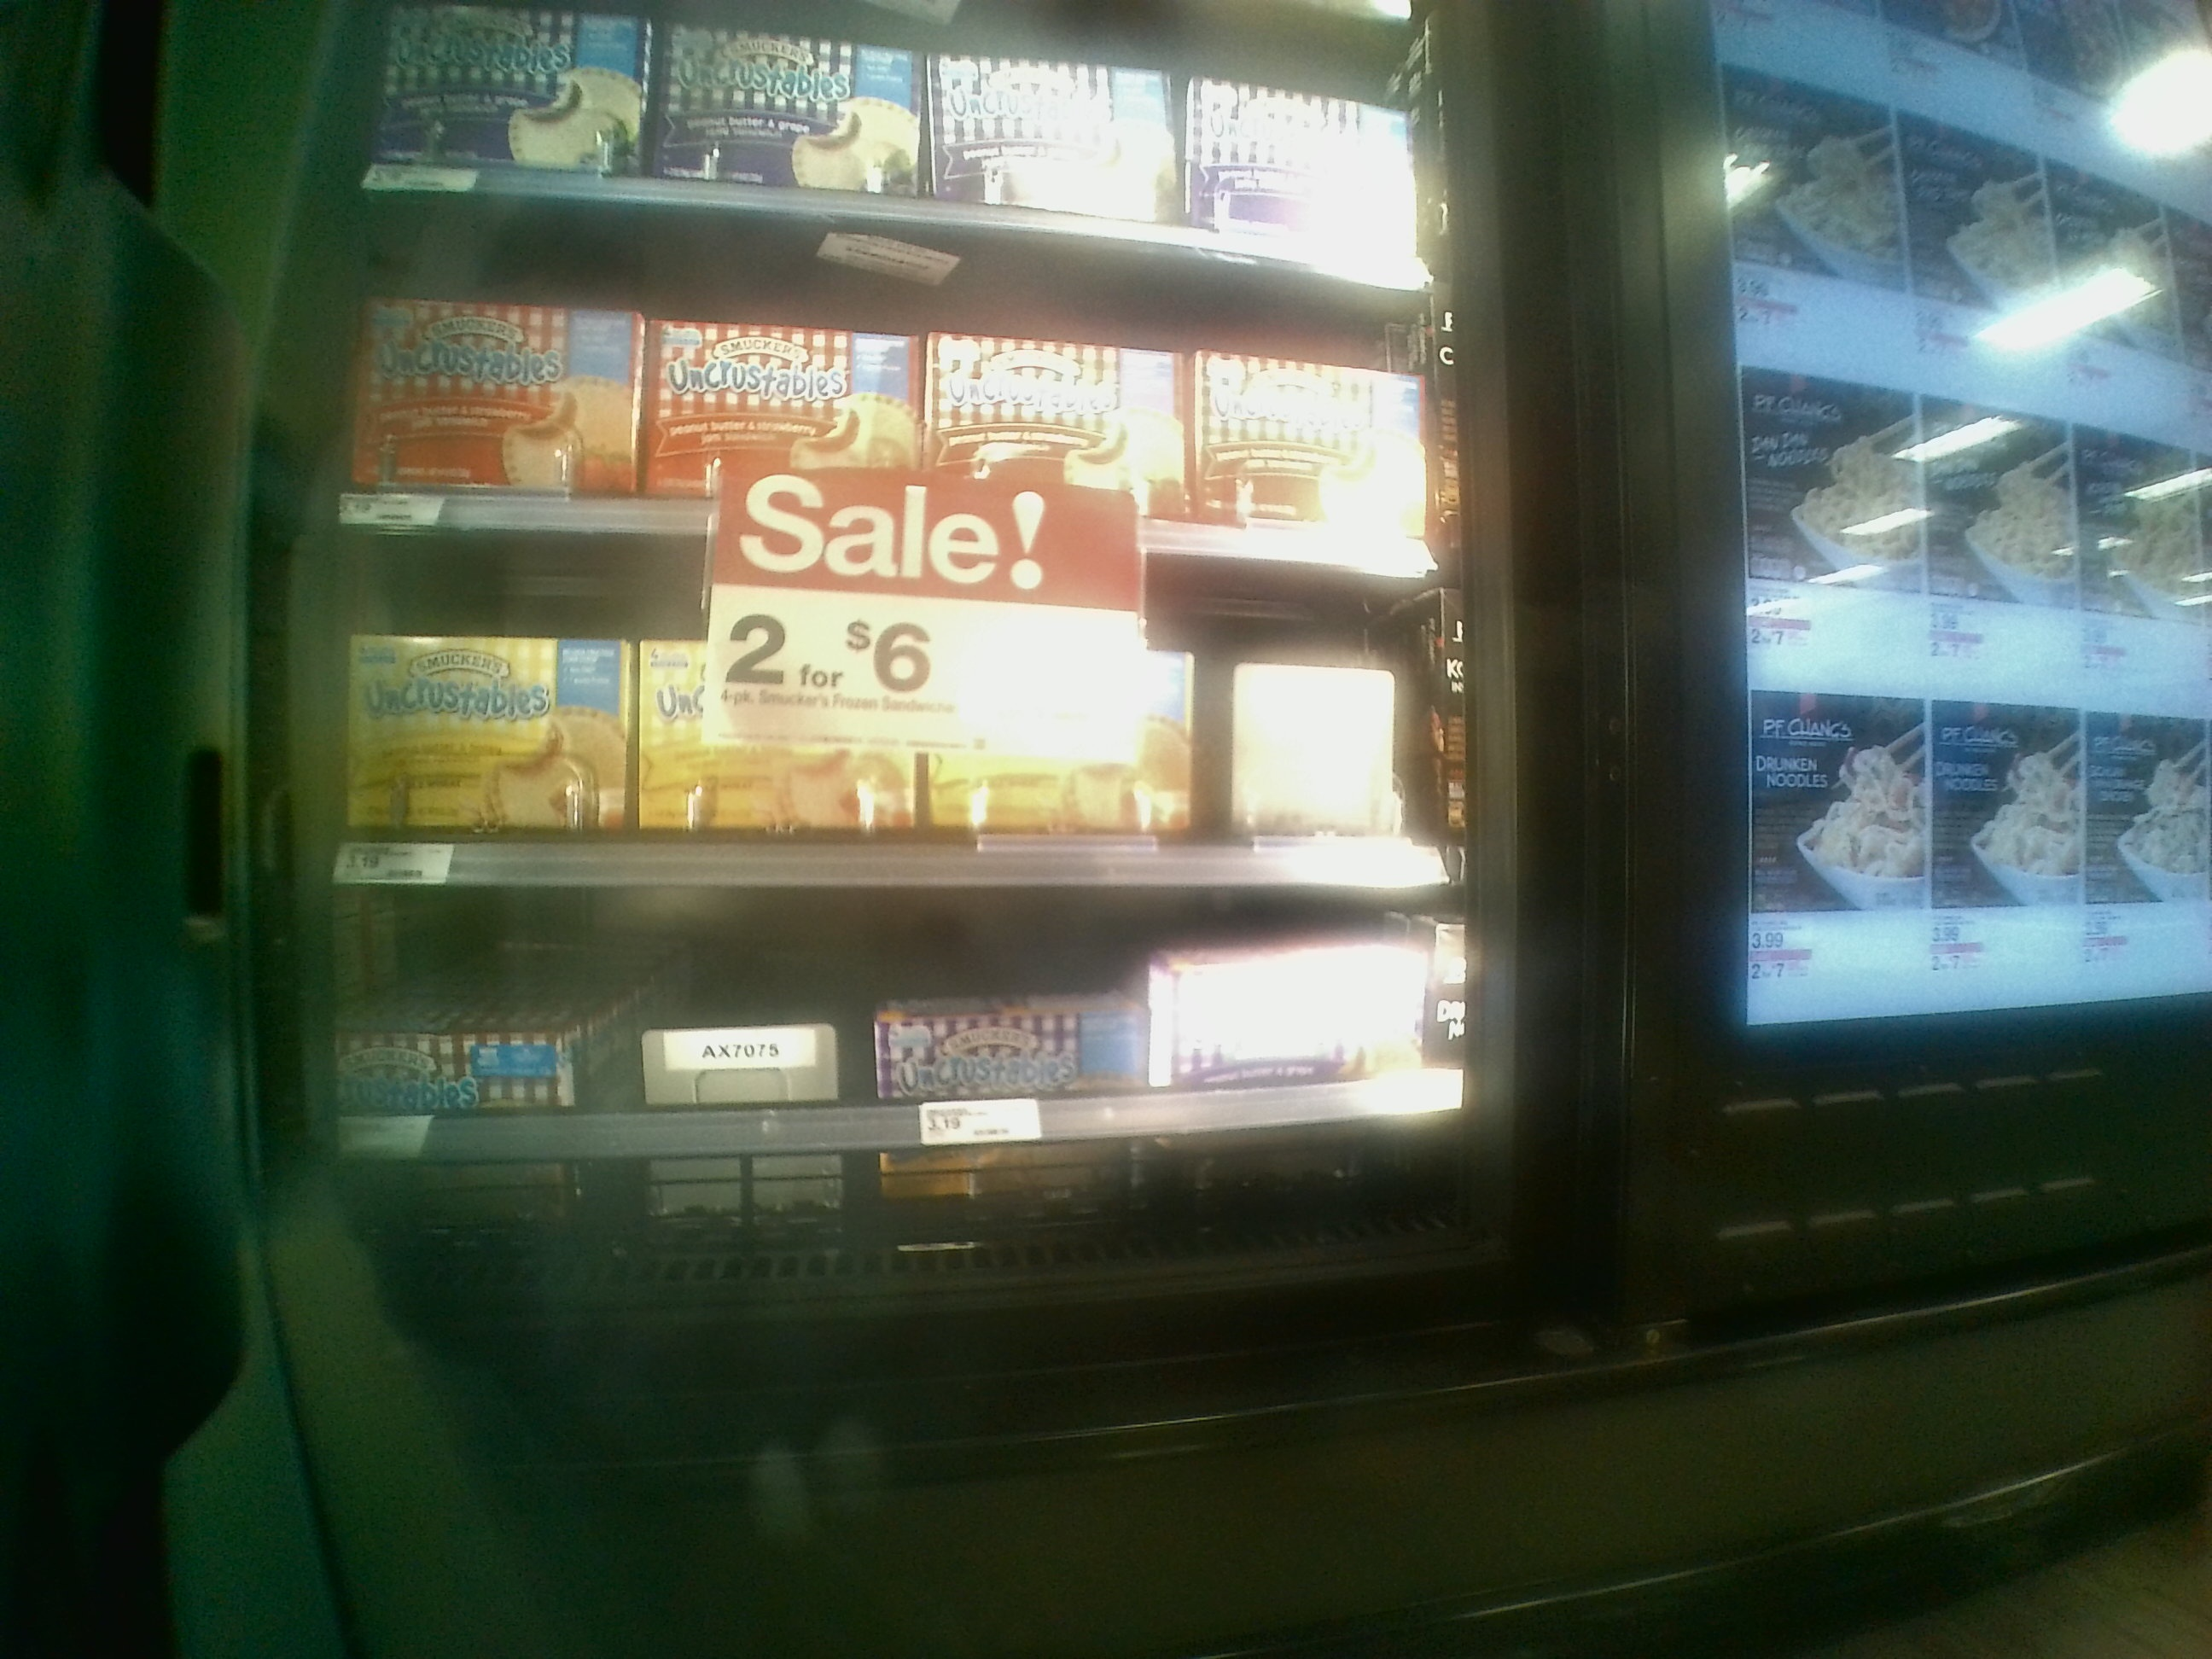shelf: (268, 875, 1519, 1297), (300, 197, 1442, 596), (268, 549, 1472, 894)
